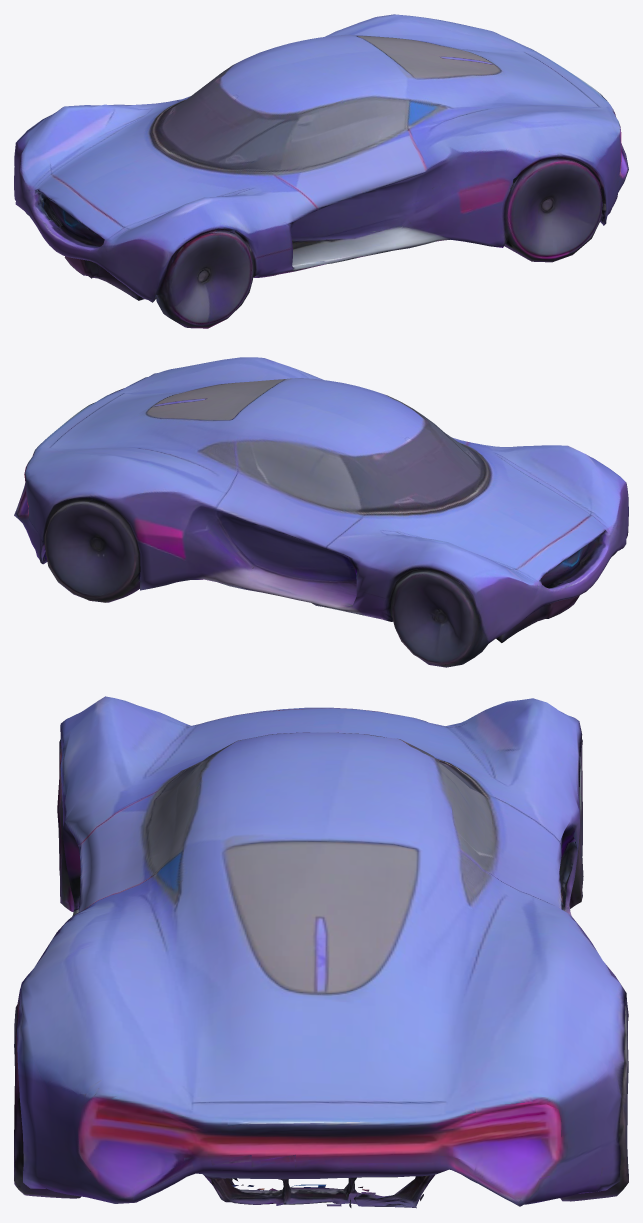
Rendered from car1.glb.
3 renders of one model, top to bottom at view 1: azimuth 30°, elevation 25°; view 2: azimuth 150°, elevation 25°; view 3: azimuth 270°, elevation 25°, orthographic. The views are drawn at different scales.
Visible parts, largest first — view 1: Mesh_0; view 2: Mesh_0; view 3: Mesh_0.
Boxes of the visible parts, <box> form: Mesh_0: <box>14,14,628,328</box>; Mesh_0: <box>14,357,628,667</box>; Mesh_0: <box>14,696,628,1208</box>.
Bounding box in the file's own units: 2 × 0.6298 × 1.2.
1 material, 1 textured.
